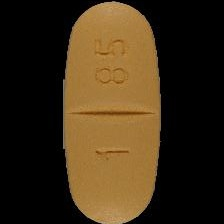33261-842: (0, 0, 224, 224)
